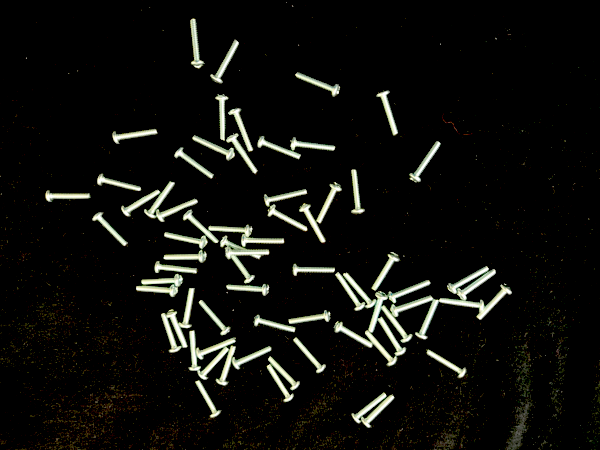longscrew: (406, 140, 442, 184), (476, 282, 514, 321), (91, 210, 129, 247), (342, 271, 378, 310), (209, 39, 240, 84), (457, 268, 498, 302), (293, 70, 341, 99), (226, 133, 259, 175), (183, 209, 220, 246), (294, 335, 328, 375), (381, 304, 414, 345), (174, 146, 215, 179), (266, 355, 302, 392), (369, 251, 401, 292), (425, 348, 467, 379), (447, 265, 490, 295), (365, 330, 398, 369), (350, 391, 389, 424), (143, 180, 176, 219), (314, 181, 343, 225), (228, 106, 255, 153), (378, 316, 408, 358), (361, 393, 396, 429), (257, 133, 302, 161), (374, 88, 400, 136), (192, 134, 236, 162), (336, 271, 366, 312), (199, 299, 232, 336), (267, 204, 309, 233), (334, 320, 374, 350), (266, 364, 296, 404), (299, 202, 327, 244), (232, 342, 274, 370), (198, 345, 230, 381), (388, 278, 432, 304), (121, 189, 161, 217), (415, 298, 441, 340), (220, 235, 262, 261), (157, 197, 199, 223), (390, 294, 435, 318), (195, 380, 222, 420), (366, 290, 389, 334), (347, 168, 368, 216), (263, 186, 308, 208), (96, 171, 143, 192), (196, 337, 237, 361), (253, 312, 297, 334), (160, 312, 183, 354), (166, 309, 189, 349), (439, 296, 487, 315), (216, 346, 238, 387), (164, 230, 209, 250), (290, 134, 337, 153), (112, 127, 159, 146), (189, 18, 206, 70), (230, 253, 257, 285), (288, 308, 332, 327), (45, 187, 93, 204), (241, 231, 286, 249), (215, 93, 231, 142), (179, 287, 197, 329), (292, 262, 337, 278), (226, 281, 271, 297), (136, 283, 180, 299), (154, 259, 200, 274), (187, 330, 203, 373), (164, 249, 208, 264), (210, 221, 253, 236), (141, 273, 184, 288), (225, 246, 270, 260)
